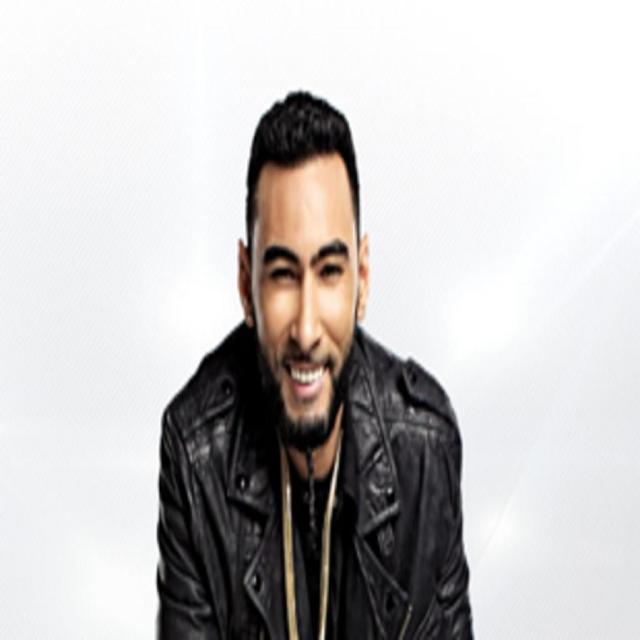nomask: (259, 160, 356, 432)
